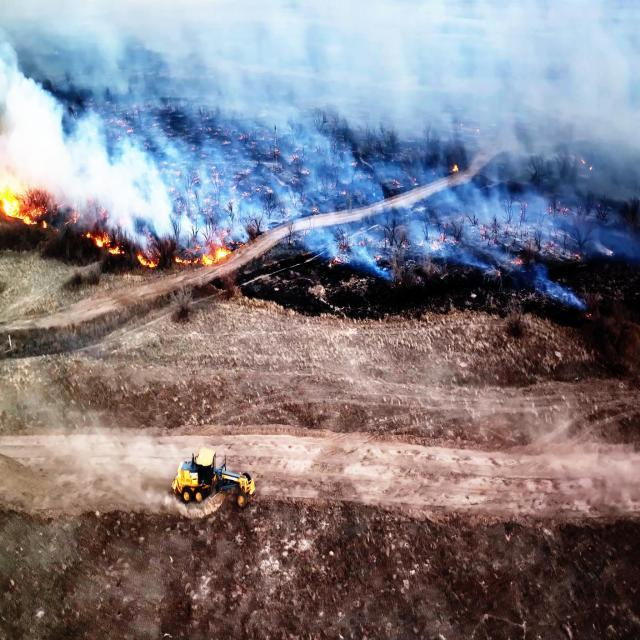Fire: (56, 199, 126, 261), (170, 236, 237, 275), (2, 191, 50, 232), (128, 247, 162, 269)
Smoke: (0, 0, 640, 184), (127, 186, 640, 249)
